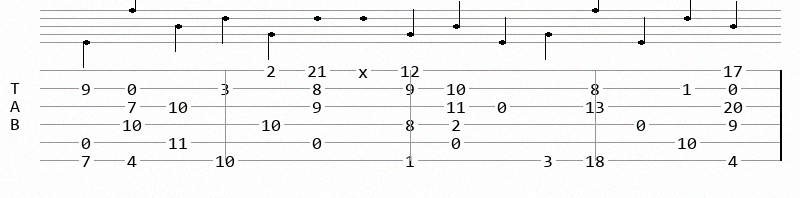0: (81, 135, 95, 150), (127, 81, 141, 96), (312, 135, 326, 150), (451, 135, 465, 150), (497, 99, 511, 114), (636, 117, 650, 132), (728, 81, 742, 96)
1: (405, 153, 419, 168), (682, 81, 696, 96)
10: (122, 117, 146, 132), (168, 99, 192, 114), (215, 153, 239, 168), (261, 117, 285, 132), (446, 81, 470, 96), (677, 135, 701, 150)
11: (168, 135, 192, 150), (446, 99, 470, 114)
12: (400, 63, 424, 78)
13: (585, 99, 609, 114)
17: (723, 63, 747, 78)
18: (585, 153, 609, 168)
2: (266, 63, 280, 78), (451, 117, 465, 132)
20: (723, 99, 747, 114)
21: (307, 63, 331, 78)
3: (220, 81, 234, 96), (543, 153, 557, 168)
4: (127, 153, 141, 168), (728, 153, 742, 168)
7: (81, 153, 95, 168), (127, 99, 141, 114)
8: (312, 81, 326, 96), (405, 117, 419, 132), (590, 81, 604, 96)
9: (81, 81, 95, 96), (312, 99, 326, 114), (405, 81, 419, 96), (728, 117, 742, 132)
x: (358, 64, 372, 77)
